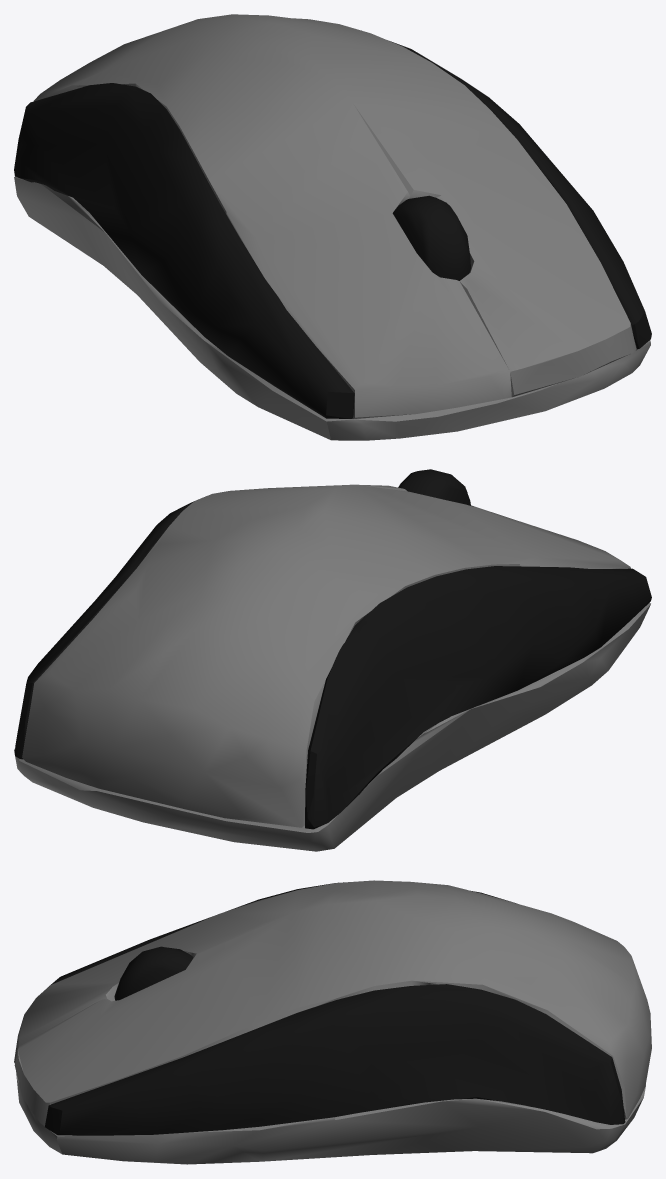
The model's file is Mouse.FBX.
The picture shows the model from 3 angles, top to bottom: view 1: azimuth 30°, elevation 25°; view 2: azimuth 150°, elevation 25°; view 3: azimuth 270°, elevation 25°; orthographic projection. The views are drawn at different scales.
Parts seen in each view (by area): view 1: Mouse; view 2: Mouse; view 3: Mouse.
Boxes of the visible parts, <box> form: Mouse: <box>14,14,651,440</box>; Mouse: <box>14,469,651,851</box>; Mouse: <box>14,880,651,1164</box>.
Size of the model in its own units: 2.45 by 4.06 by 1.32.
Materials: 1 (1 with a texture image).
